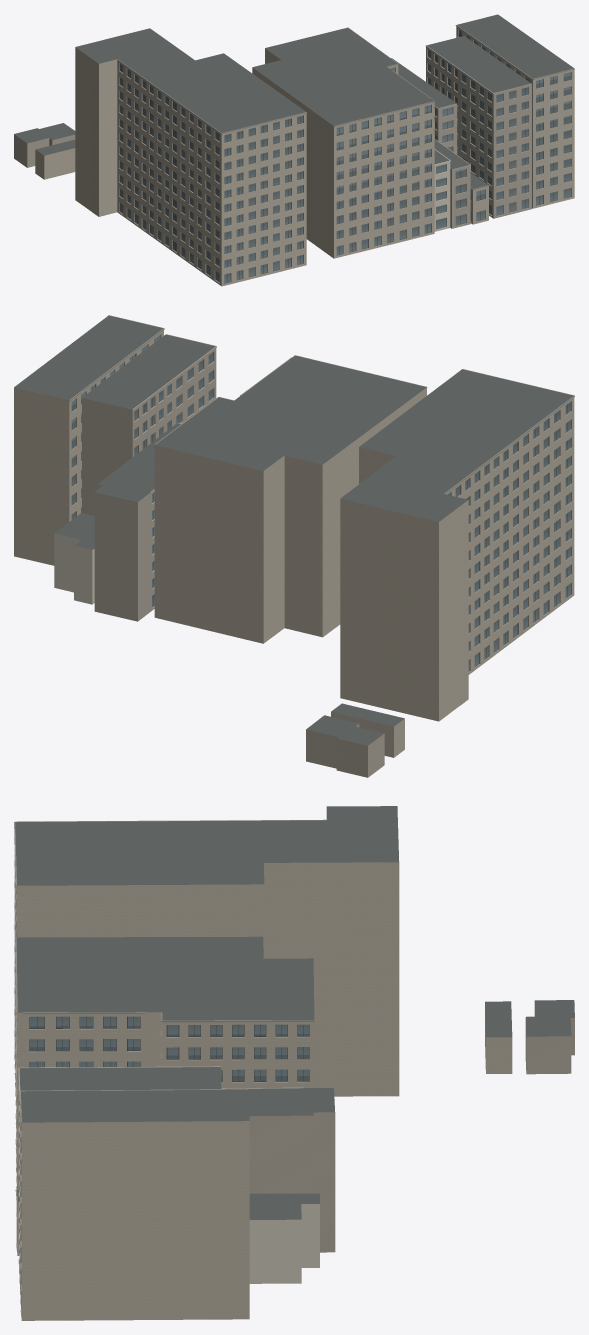
File: near.gltf
3 views of the same model, one above another, from view 1: azimuth 30°, elevation 25°; view 2: azimuth 150°, elevation 25°; view 3: azimuth 270°, elevation 25° (orthographic). The views are drawn at different scales.
Visible parts, largest first — view 1: cell-e003-n000_near_stone, cell-e003-n000_near_roof, cell-e003-n000_near_glass, cell-e003-n000_near_tile-wall, cell-e003-n000_near_granite, cell-e003-n000_near_frame, cell-e003-n000_near_plaster; view 2: cell-e003-n000_near_stone, cell-e003-n000_near_roof, cell-e003-n000_near_tile-wall, cell-e003-n000_near_glass, cell-e003-n000_near_granite, cell-e003-n000_near_plaster, cell-e003-n000_near_frame; view 3: cell-e003-n000_near_stone, cell-e003-n000_near_roof, cell-e003-n000_near_tile-wall, cell-e003-n000_near_glass, cell-e003-n000_near_plaster, cell-e003-n000_near_granite, cell-e003-n000_near_frame.
Boxes of the visible parts, <box> form: cell-e003-n000_near_stone: <box>35,26,574,286</box>; cell-e003-n000_near_roof: <box>14,14,573,188</box>; cell-e003-n000_near_glass: <box>119,29,570,283</box>; cell-e003-n000_near_tile-wall: <box>14,45,531,228</box>; cell-e003-n000_near_granite: <box>117,25,574,283</box>; cell-e003-n000_near_frame: <box>120,31,571,283</box>; cell-e003-n000_near_plaster: <box>434,149,450,231</box>; cell-e003-n000_near_stone: <box>14,330,574,757</box>; cell-e003-n000_near_roof: <box>14,315,573,745</box>; cell-e003-n000_near_tile-wall: <box>82,334,384,777</box>; cell-e003-n000_near_glass: <box>71,335,570,670</box>; cell-e003-n000_near_granite: <box>69,315,574,672</box>; cell-e003-n000_near_plaster: <box>54,533,94,604</box>; cell-e003-n000_near_frame: <box>72,352,570,666</box>; cell-e003-n000_near_stone: <box>14,813,512,1320</box>; cell-e003-n000_near_roof: <box>15,806,574,1219</box>; cell-e003-n000_near_tile-wall: <box>18,1004,574,1288</box>; cell-e003-n000_near_glass: <box>29,1016,309,1081</box>; cell-e003-n000_near_plaster: <box>249,1204,319,1283</box>; cell-e003-n000_near_granite: <box>14,819,326,1315</box>; cell-e003-n000_near_frame: <box>29,1016,309,1081</box>.
Bounding box in the file's own units: 92.87 × 35.79 × 77.71.
7 materials, 5 textured.
